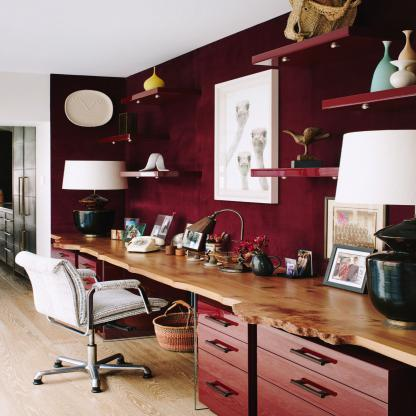chair: (13, 249, 156, 399)
light: (57, 157, 134, 238)
table: (53, 210, 416, 416)
